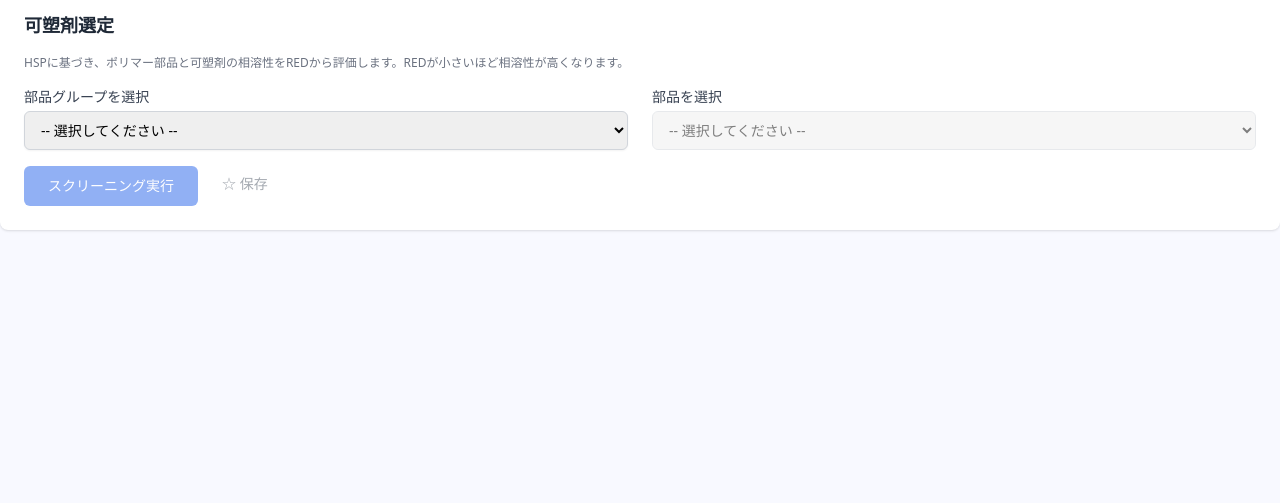
Scenario: PlasticizerView › スクリーニング実行後に結果テーブルが表示される
Select "PVCグループ (1部品)" in the dropdown labelled "部品グループを選択" at [326, 130], box [24,111,628,150]
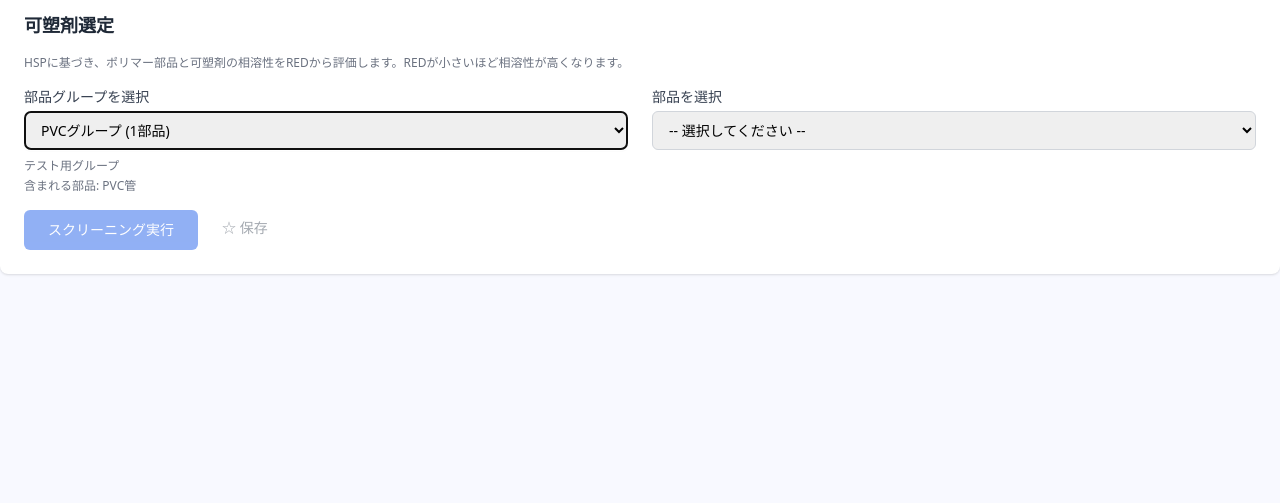
Select "PVC管 (PS)" in the 2nd dropdown at [954, 130], box [652,111,1256,150]
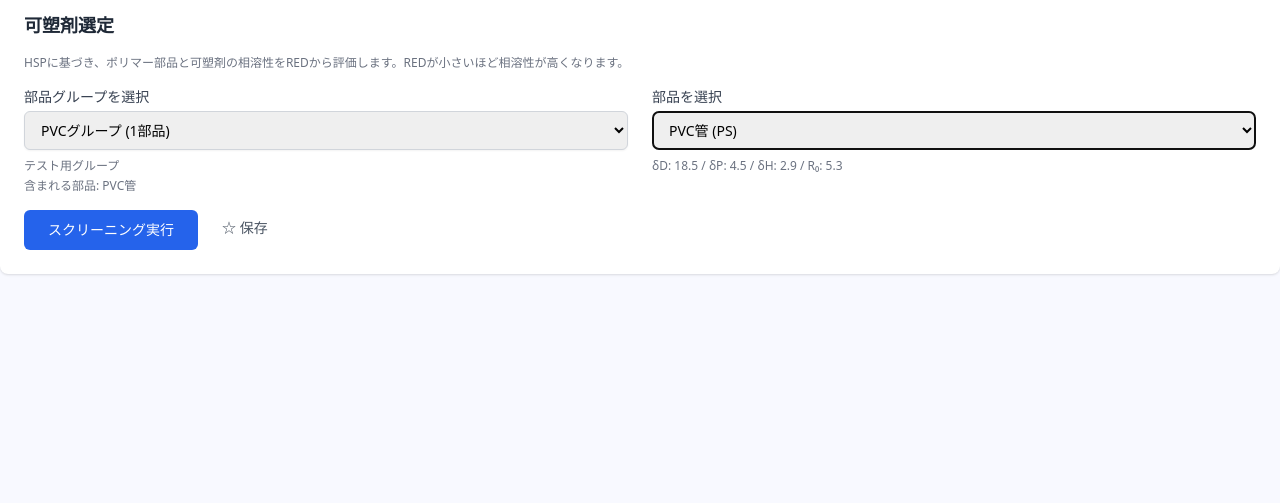
// スクリーニング実行
Click the button "スクリーニング実行" at [111, 230], box [24,210,198,250]
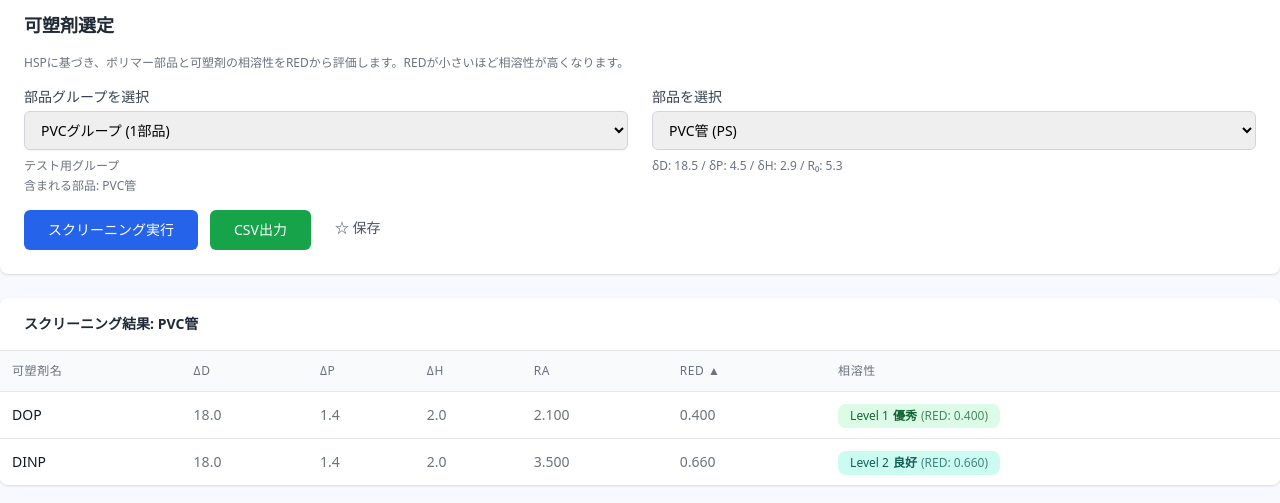
Expected: the heading "スクリーニング結果: PVC管" is shown, [24,314,198,333]
Expected: the text "DOP" is shown, [0,392,182,438]
Expected: the text "DINP" is shown, [0,438,182,485]
